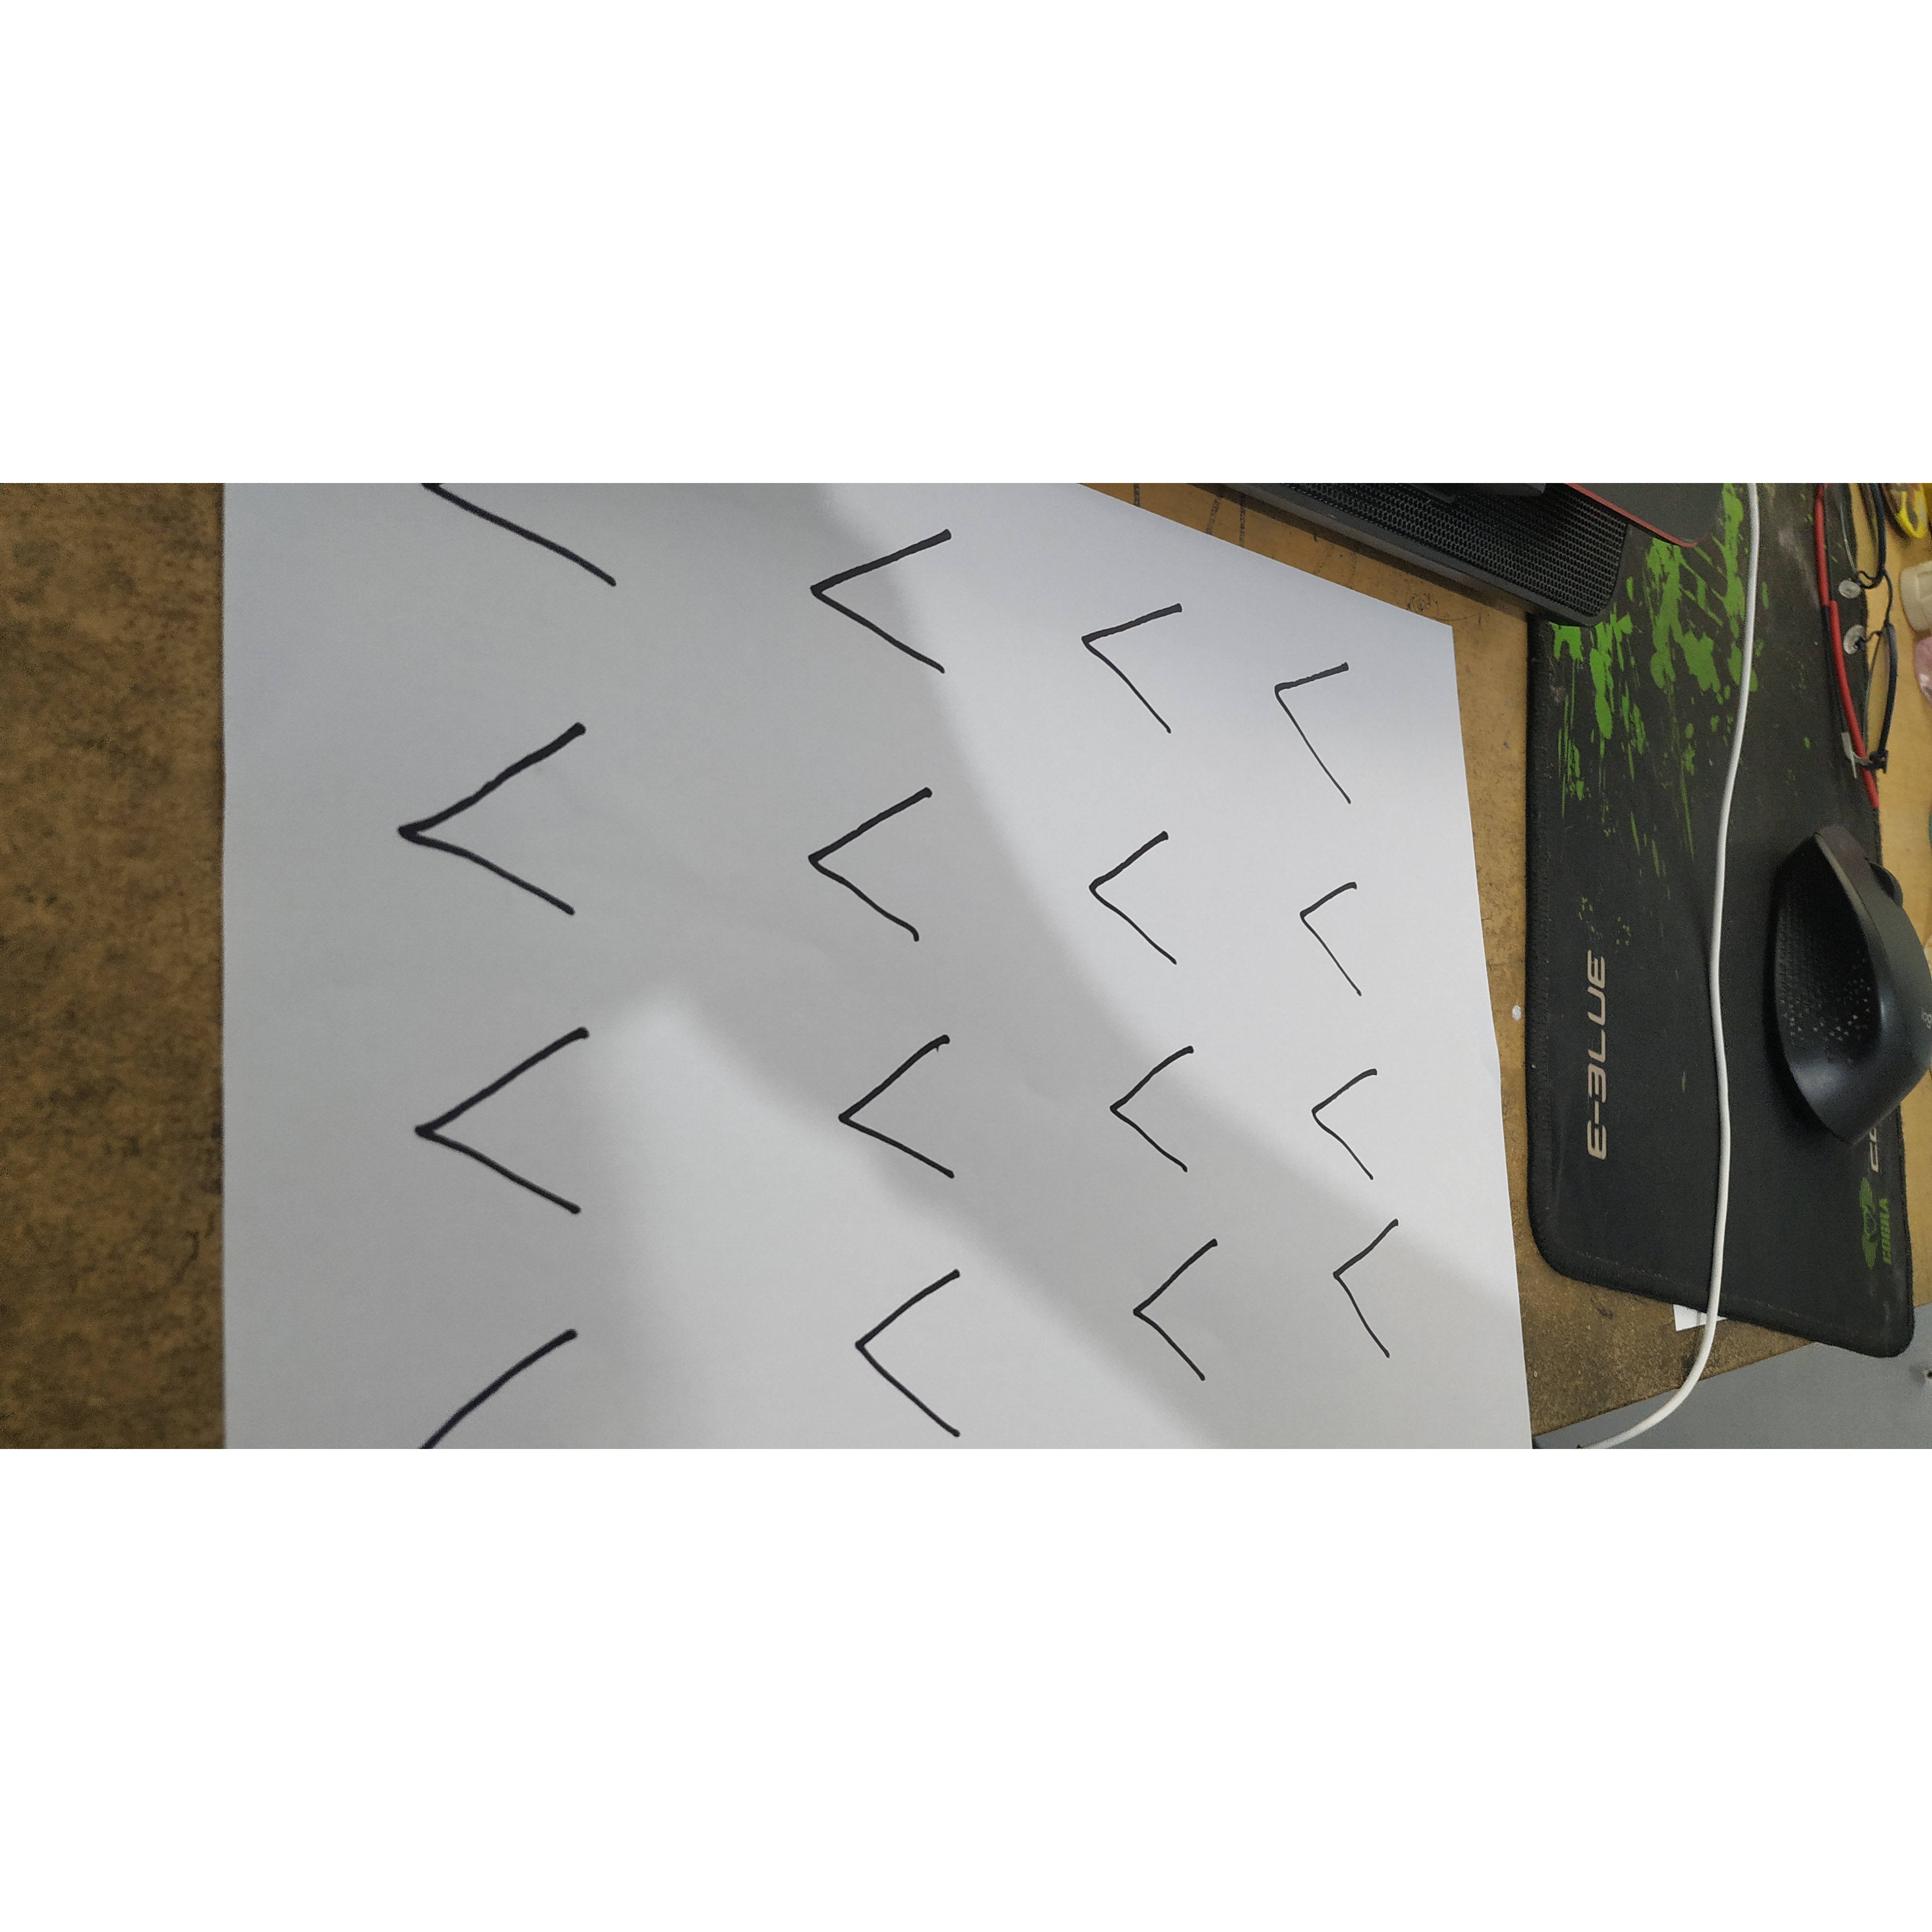lessthan: (377, 682, 625, 945), (381, 1004, 633, 1235), (788, 500, 980, 699), (805, 1021, 1011, 1189), (1053, 561, 1210, 758), (832, 1258, 992, 1447), (805, 767, 952, 964), (1074, 823, 1202, 989), (1114, 1235, 1257, 1384), (1095, 1029, 1223, 1193), (1267, 639, 1370, 819), (1299, 1046, 1404, 1199), (1286, 863, 1378, 1008), (1335, 1218, 1408, 1352)
